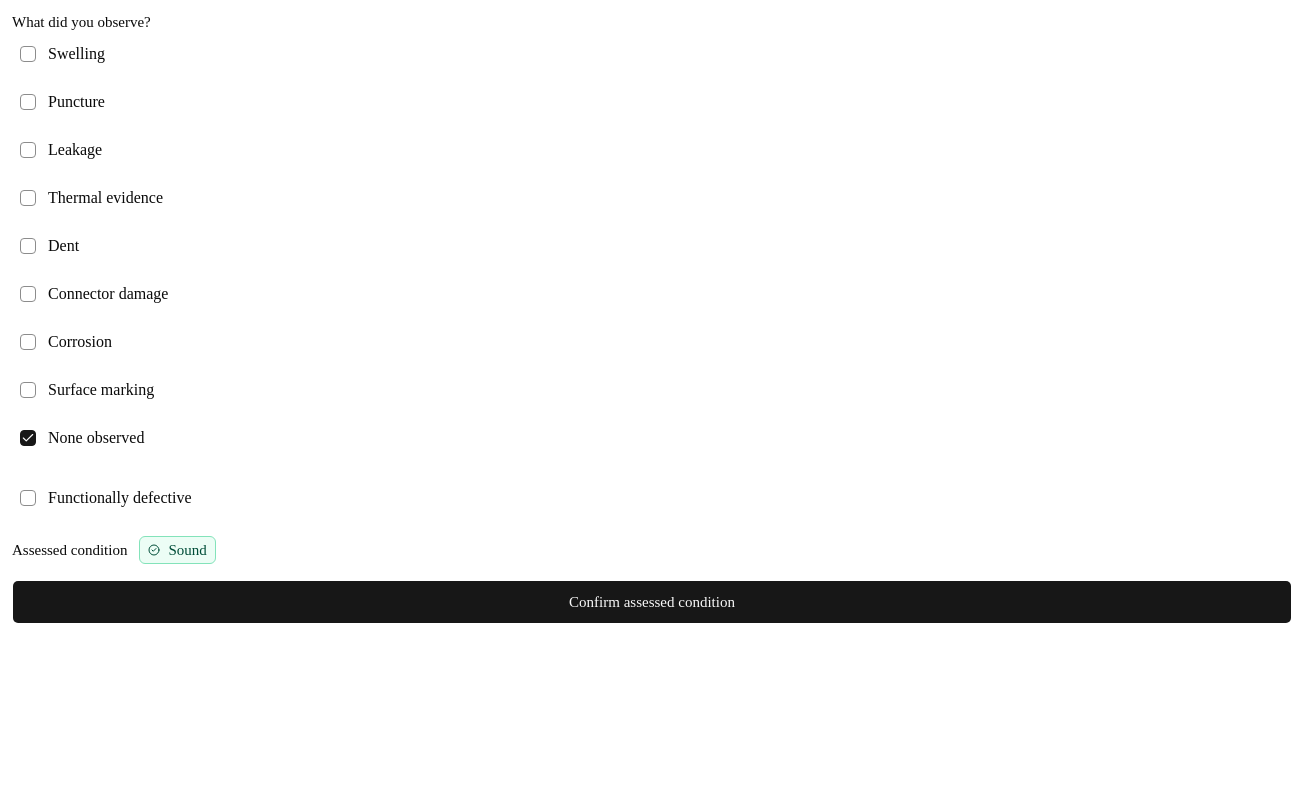
Test: ConditionForm — confirming is never optimistic › surfaces a refused confirmation and stays editable
Click the button "Confirm assessed condition": {"x": 652, "y": 602} [12, 580, 1292, 624]
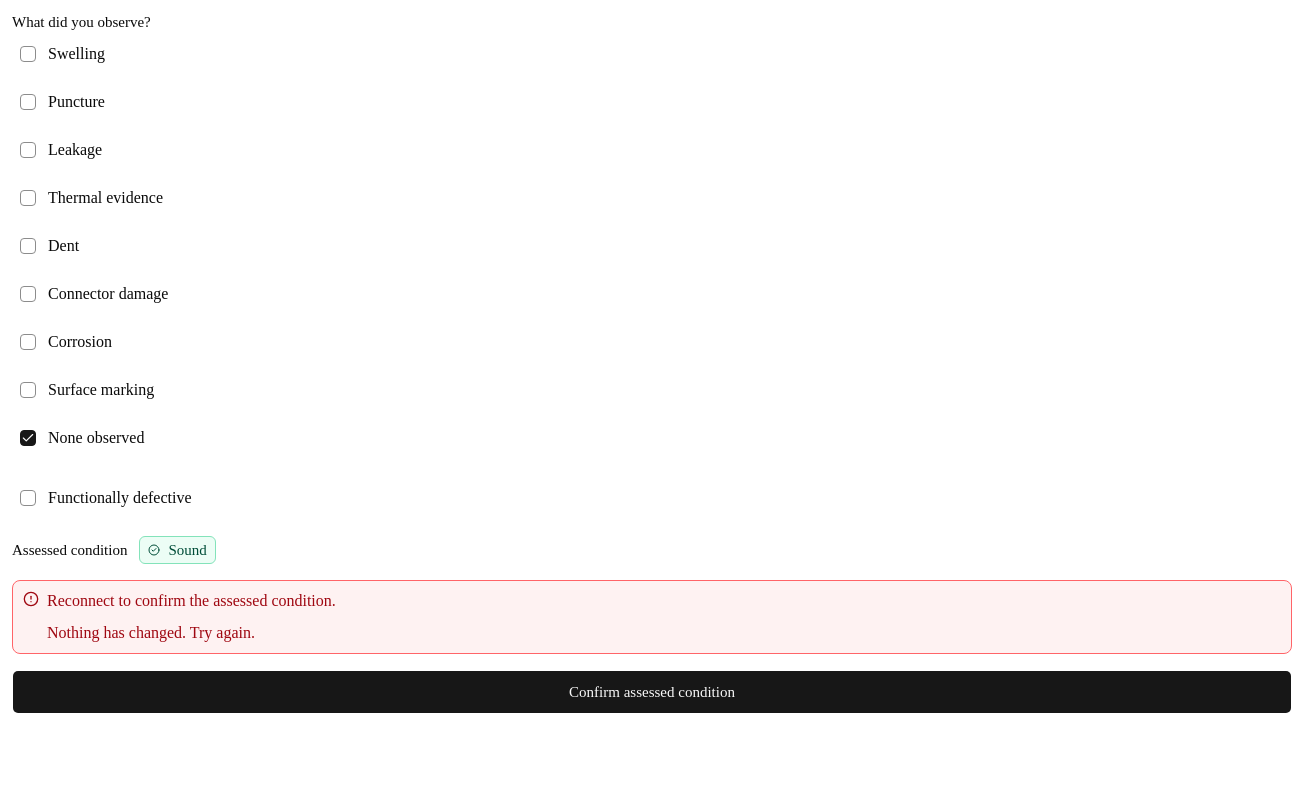
Expected: the message "Reconnect to confirm the assessed condition. Nothing has changed. Try again." is shown, [12, 580, 1292, 654]
Expected: the text "Reconnect to confirm the assessed condition." is shown, [47, 592, 336, 609]
